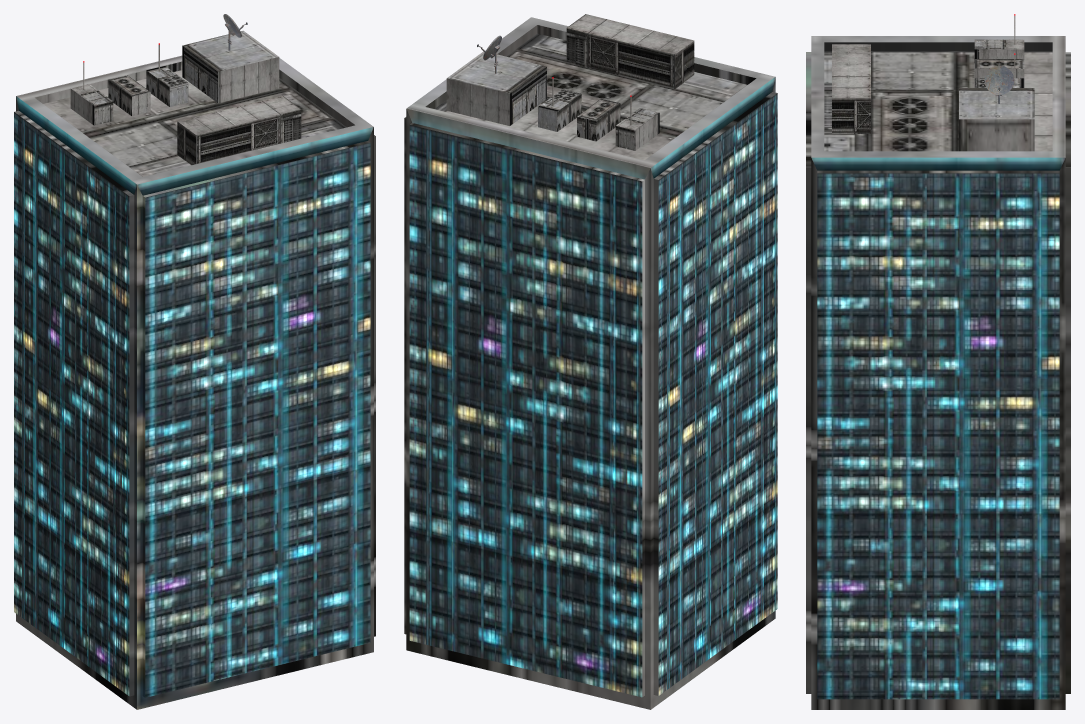
File: 2026-commercial-building-14.glb
The picture shows the model from 3 angles, left to right: view 1: azimuth 30°, elevation 25°; view 2: azimuth 150°, elevation 25°; view 3: azimuth 270°, elevation 25°; orthographic projection. The views are drawn at different scales.
Parts seen in each view (by area): view 1: 2026-commercial-building-14; view 2: 2026-commercial-building-14; view 3: 2026-commercial-building-14.
Boxes of the visible parts, x1=… form: 2026-commercial-building-14: x1=14, y1=14, x2=375, y2=709; 2026-commercial-building-14: x1=404, y1=14, x2=777, y2=709; 2026-commercial-building-14: x1=806, y1=14, x2=1070, y2=709.
Size of the model in its own units: 58.1 by 132 by 51.41.
3 materials, 2 textured.
